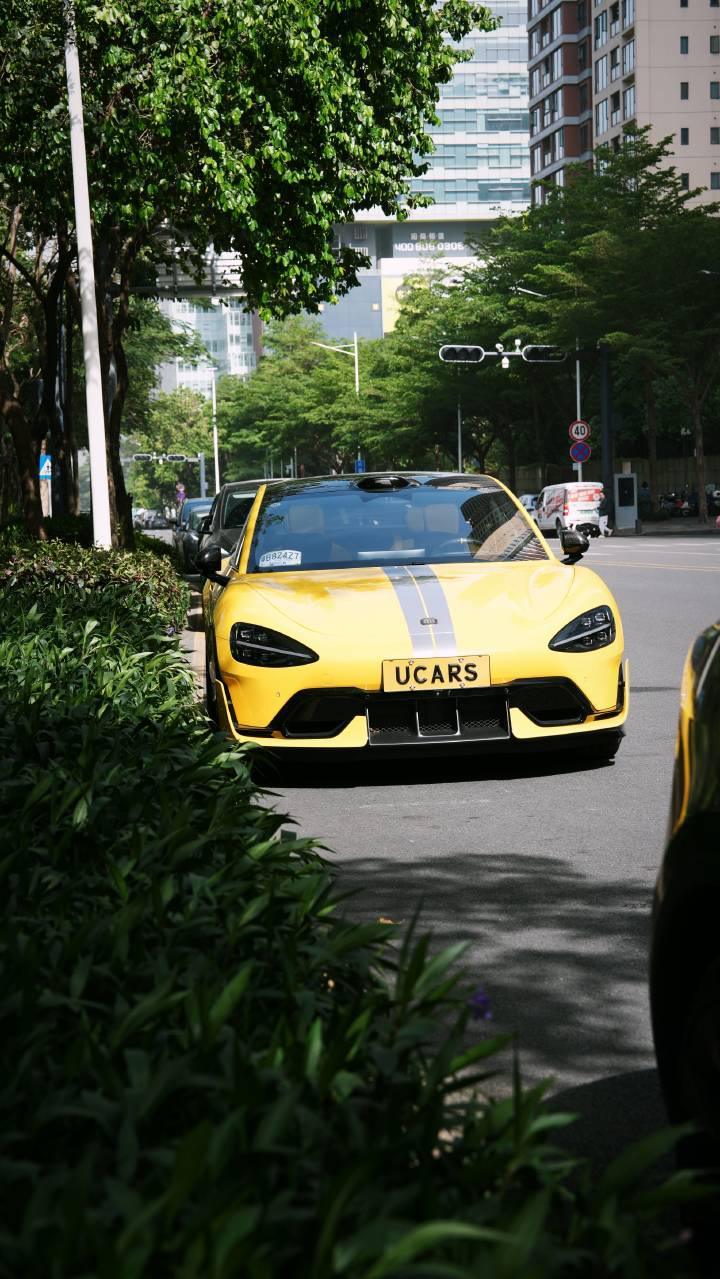su7: (194, 432, 628, 758)
